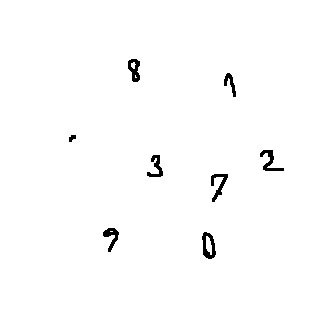.: (66, 129, 82, 152)
0: (193, 225, 223, 266)
1: (223, 65, 240, 104)
2: (257, 142, 288, 179)
3: (140, 152, 170, 184)
7: (199, 166, 236, 208)
8: (123, 52, 147, 93)
9: (98, 224, 124, 263)
